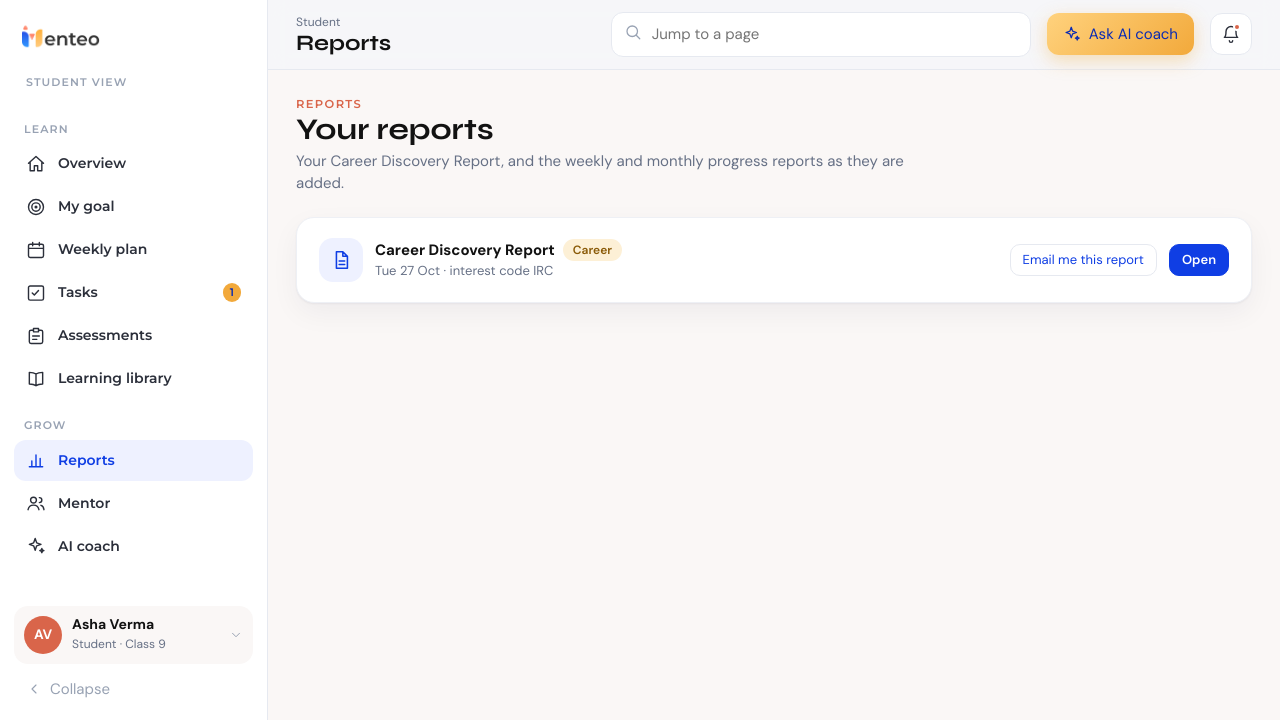
Test: student: reports › shows an error and lets the student try again if sending fails
Step 1. Click the button "Email me this report" → (1083, 260), box [1010,244,1157,276]
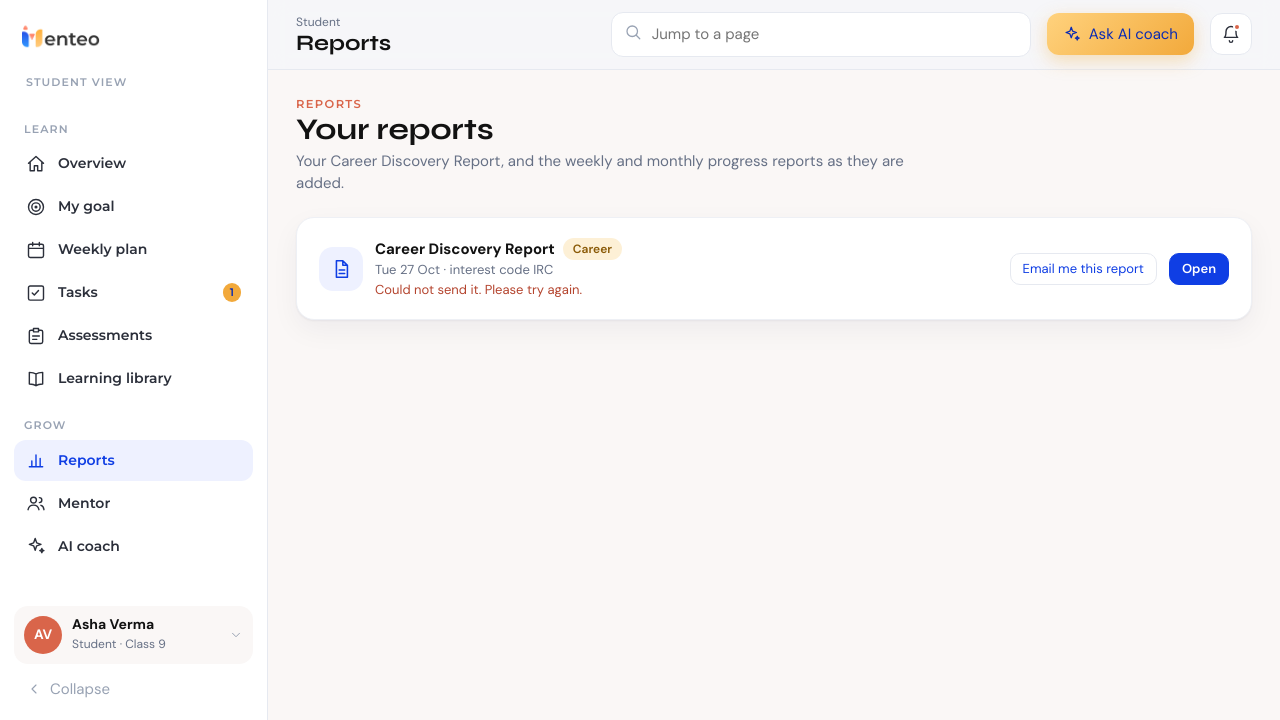
Expected: the text "Could not send it. Please try again." is shown, [375,281,582,298]
